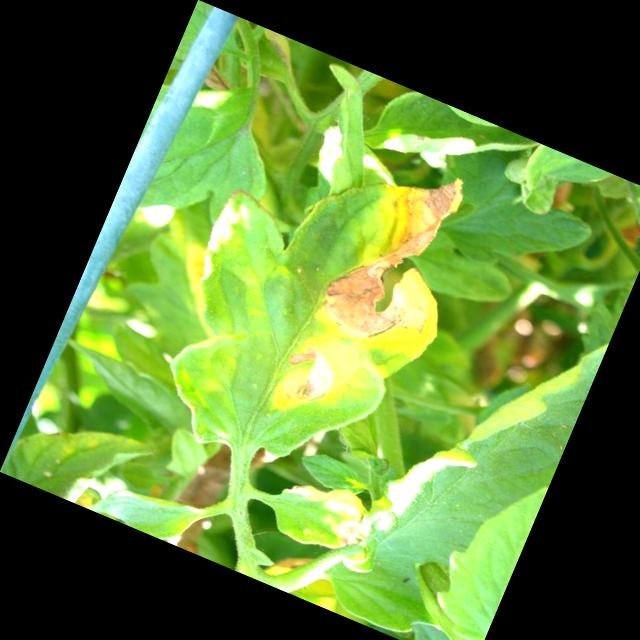Early_blight: (302, 144, 494, 372), (270, 465, 373, 552), (261, 335, 345, 428)
